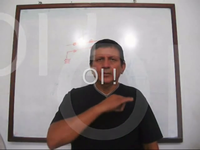oi: (99, 93, 136, 113)
